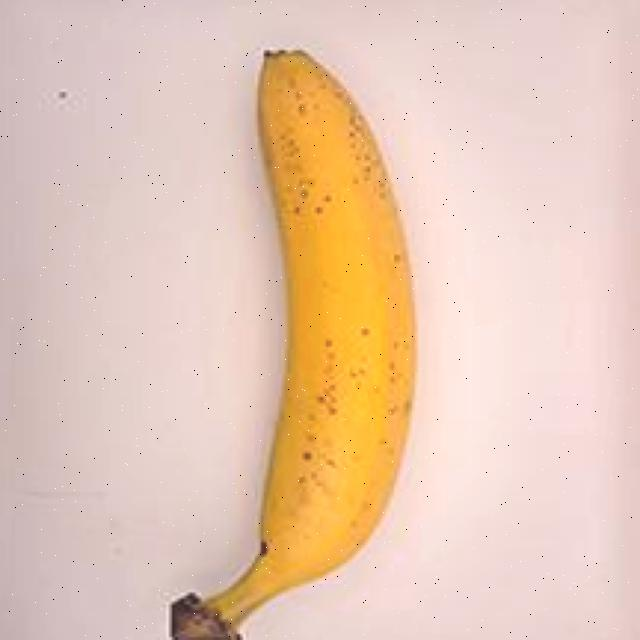Ripe: (94, 32, 447, 640)
